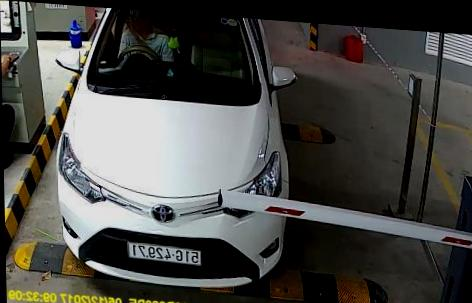License_Plate: (123, 239, 205, 268)
